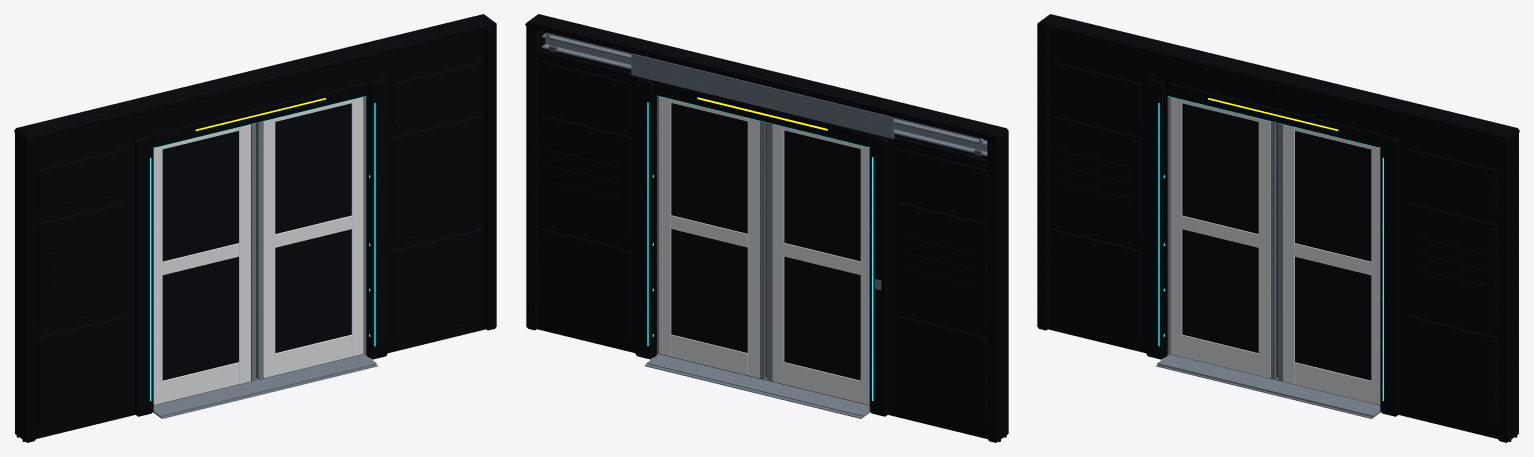
File: door_lab_biparting_slide.glb
The picture shows the model from 3 angles, left to right: view 1: azimuth 30°, elevation 25°; view 2: azimuth 150°, elevation 25°; view 3: azimuth 330°, elevation 25°; orthographic projection.
Parts seen in each view (by area): view 1: frame, leaf_R_core, leaf_L_core, leaf_R_face, leaf_L_face, threshold, leaf_R_stiles, leaf_L_stiles, reveal_strips, leaf_R_seal; view 2: frame, leaf_L_core, leaf_R_core, leaf_R_face, leaf_L_face, slide_AccessPanel, threshold, slide_Track, leaf_R_stiles, leaf_L_stiles, reveal_strips, slide_Belt (+1 smaller); view 3: frame, leaf_L_core, leaf_R_core, leaf_L_face, leaf_R_face, threshold, leaf_L_stiles, leaf_R_stiles, reveal_strips, leaf_L_seal.
Boxes of the visible parts, bbox=[...] form: frame: bbox=[14, 14, 496, 442]; leaf_R_core: bbox=[263, 97, 363, 378]; leaf_L_core: bbox=[154, 124, 251, 405]; leaf_R_face: bbox=[263, 97, 363, 378]; leaf_L_face: bbox=[153, 124, 250, 404]; threshold: bbox=[153, 354, 378, 418]; leaf_R_stiles: bbox=[256, 96, 366, 379]; leaf_L_stiles: bbox=[251, 123, 255, 381]; reveal_strips: bbox=[150, 96, 375, 401]; leaf_R_seal: bbox=[256, 123, 257, 377]; frame: bbox=[525, 14, 1008, 442]; leaf_L_core: bbox=[772, 124, 869, 405]; leaf_R_core: bbox=[659, 103, 759, 378]; leaf_R_face: bbox=[659, 96, 759, 377]; leaf_L_face: bbox=[772, 124, 869, 404]; slide_AccessPanel: bbox=[631, 53, 894, 138]; threshold: bbox=[644, 354, 870, 418]; slide_Track: bbox=[542, 33, 987, 156]; leaf_R_stiles: bbox=[657, 96, 766, 379]; leaf_L_stiles: bbox=[767, 122, 771, 381]; reveal_strips: bbox=[647, 95, 873, 400]; slide_Belt: bbox=[547, 33, 980, 143]; frame: bbox=[1037, 14, 1519, 442]; leaf_L_core: bbox=[1170, 97, 1270, 378]; leaf_R_core: bbox=[1282, 124, 1379, 405]; leaf_L_face: bbox=[1170, 97, 1270, 378]; leaf_R_face: bbox=[1283, 124, 1380, 404]; threshold: bbox=[1155, 354, 1380, 418]; leaf_L_stiles: bbox=[1167, 96, 1277, 379]; leaf_R_stiles: bbox=[1278, 123, 1282, 381]; reveal_strips: bbox=[1158, 96, 1383, 401]; leaf_L_seal: bbox=[1276, 123, 1277, 377].
Size of what is drawn, in the model's own units: 4.35 by 2.7 by 0.46.
Materials: 11 (5 with a texture image).
